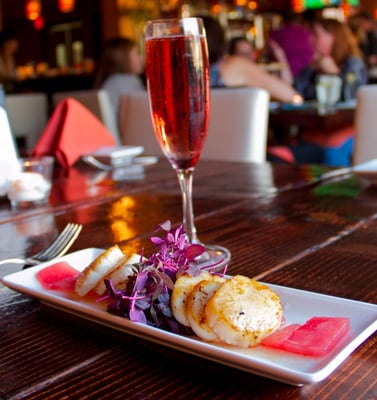burger: (0, 222, 84, 281)
pizza: (315, 74, 342, 116), (316, 78, 332, 116), (316, 84, 329, 116)
